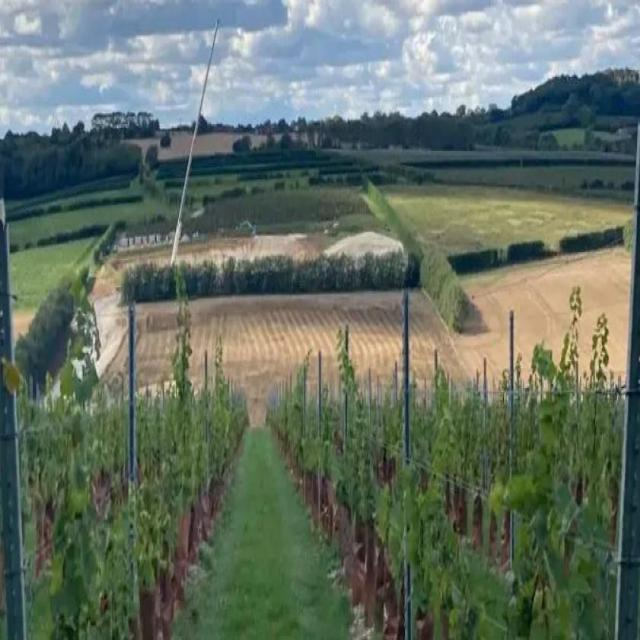row: (165, 421, 367, 640)
